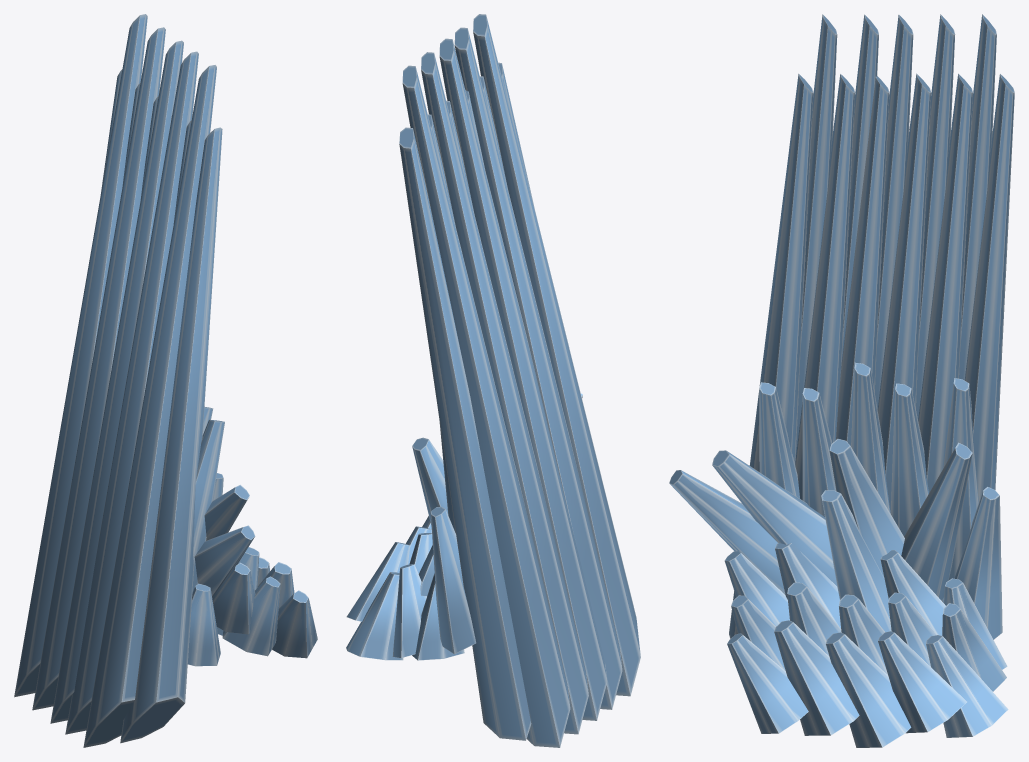
The model's file is wall_spike_08.fbx.
3 renders of one model, left to right at view 1: azimuth 30°, elevation 25°; view 2: azimuth 150°, elevation 25°; view 3: azimuth 270°, elevation 25°, orthographic. The views are drawn at different scales.
Parts seen in each view (by area): view 1: wall_spike_08; view 2: wall_spike_08; view 3: wall_spike_08.
Boxes of the visible parts, x1,y1,x2,y2 form: wall_spike_08: [14, 14, 317, 747]; wall_spike_08: [346, 14, 640, 747]; wall_spike_08: [669, 14, 1014, 747].
Size of the model in its own units: 1.24 by 3.37 by 1.42.
Materials: 1 (1 with a texture image).
